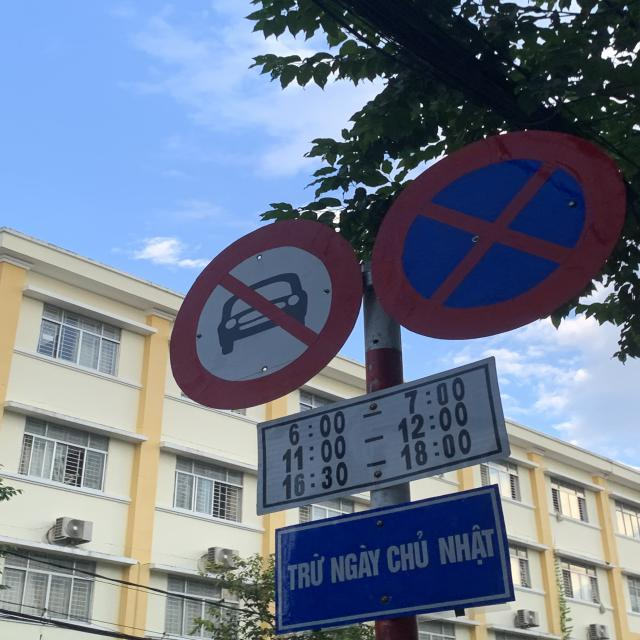Cam_Dung_Va_Dau_Xe: (370, 130, 626, 342)
Cam_O_To: (170, 218, 364, 410)
